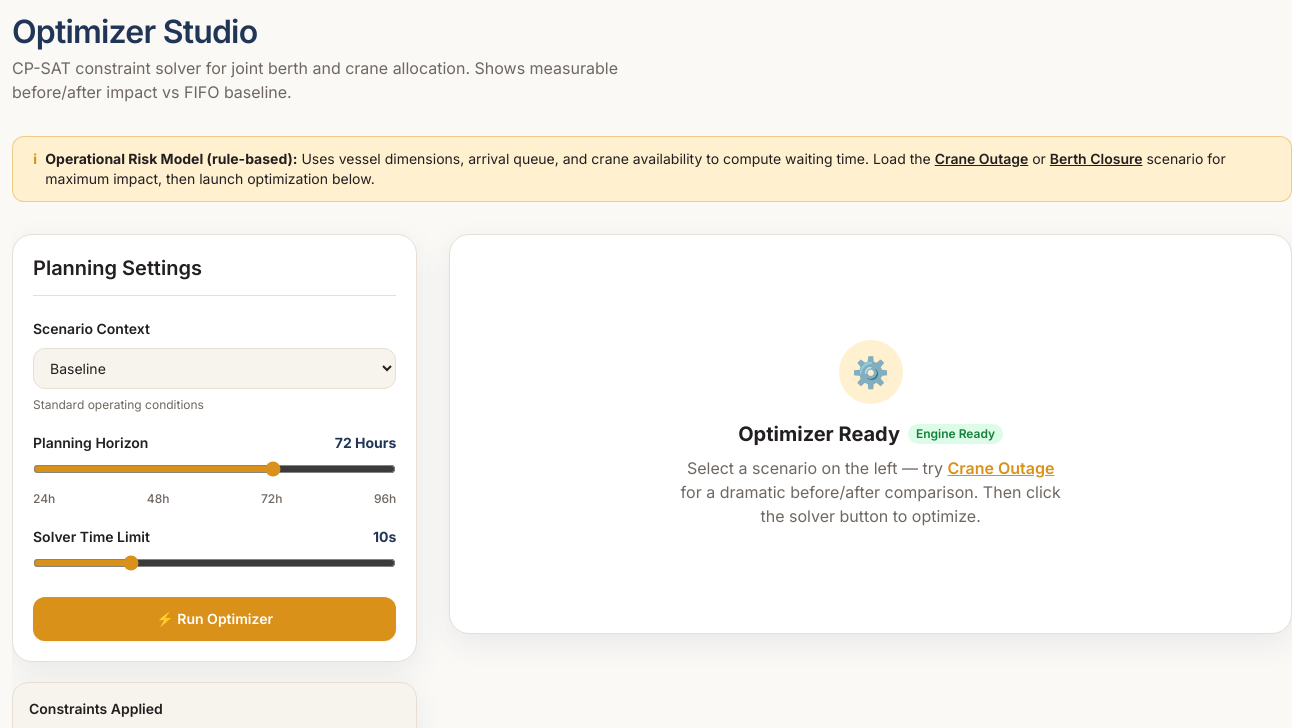
Scenario: OptimizerPage › shows error state on API failure
Click the button "⚡ Run Optimizer". click: (215, 618)
box: [33,596,396,640]
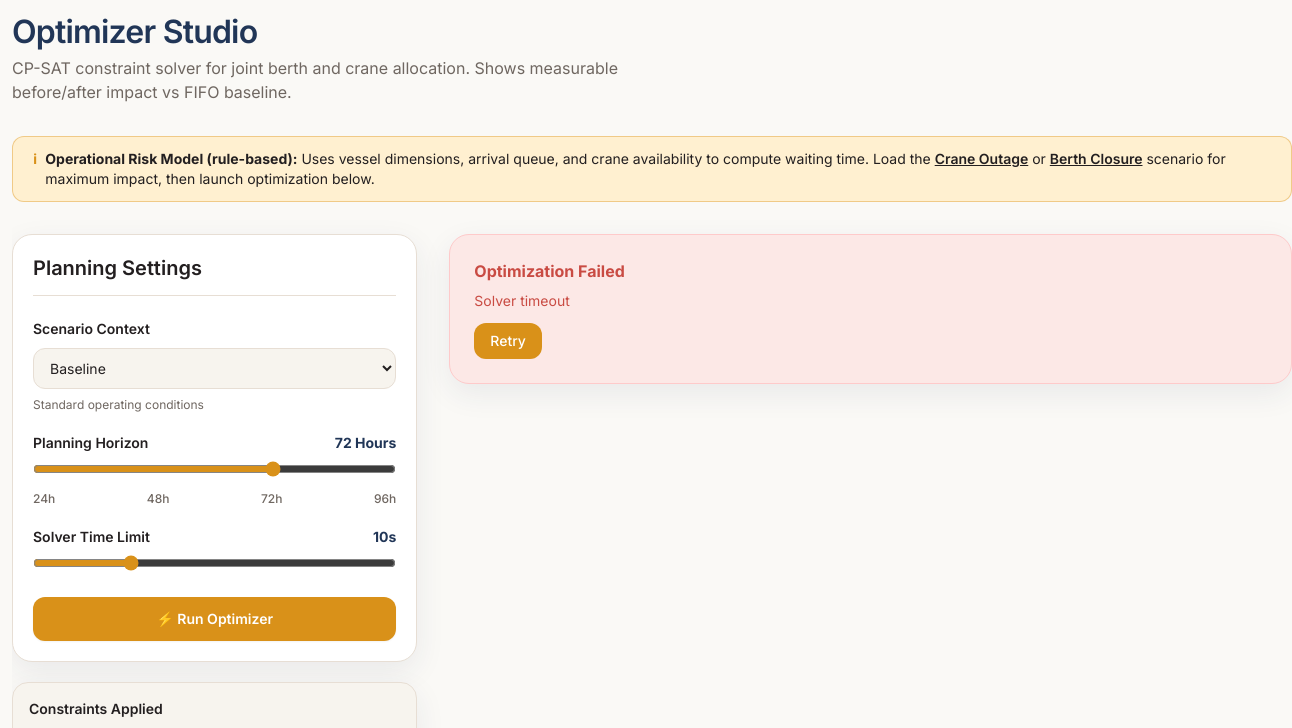
Check: the heading "Optimization Failed" is shown, box [474,261,625,281]
Check: the text "Solver timeout" is shown, box [474,292,570,309]
